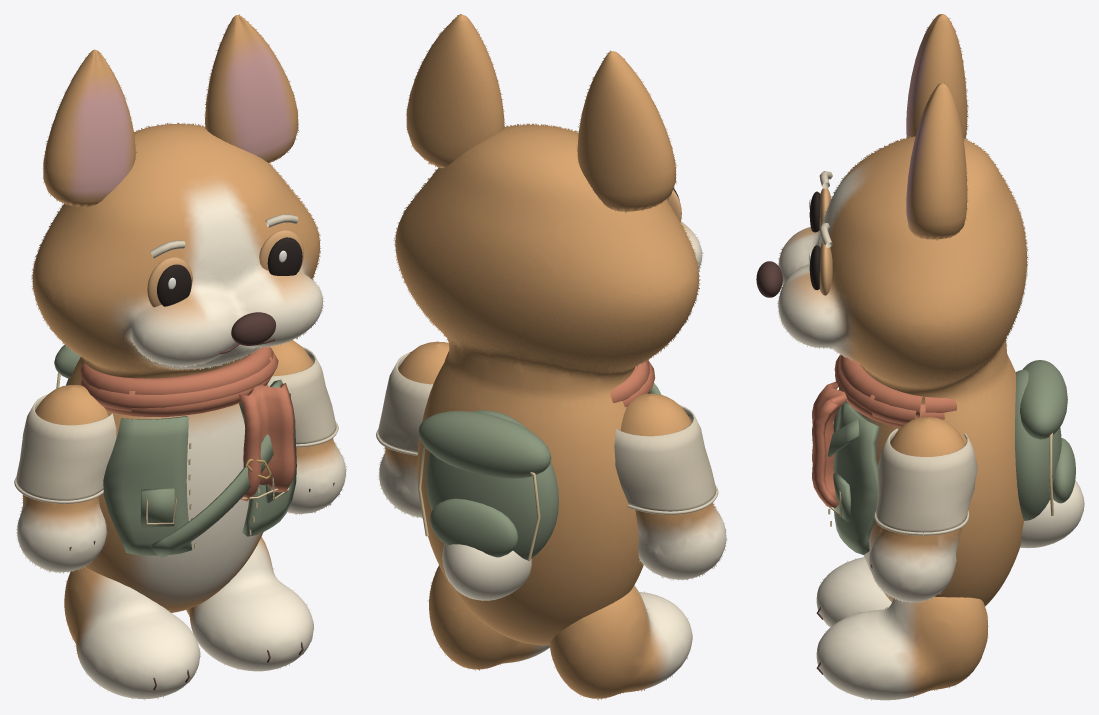
File: corgi_softtoy.glb
The picture shows the model from 3 angles, left to right: view 1: azimuth 30°, elevation 25°; view 2: azimuth 150°, elevation 25°; view 3: azimuth 270°, elevation 25°; orthographic projection. The views are drawn at different scales.
Parts seen in each view (by area): view 1: ContinuousSculptBody, SculptFaceAndClothing, ClothedPalm_L, Paw_L, PlushEar_L, Paw_R, PlushEar_R, ClothedPalm_R, ScarfTailWoven, PhysicalShortFur, EyeSurface_L, EyeSurface_R (+1 smaller); view 2: ContinuousSculptBody, SculptFaceAndClothing, ClothedPalm_L, PlushEar_L, Paw_L, PlushEar_R, ClothedPalm_R, PhysicalShortFur, Paw_R, PhysicalShortFur.006, PhysicalShortFur.003, PhysicalShortFur.001; view 3: ContinuousSculptBody, SculptFaceAndClothing, ClothedPalm_R, Paw_R, PlushEar_R, PhysicalShortFur, PlushEar_L, Paw_L, ScarfTailWoven, PhysicalShortFur.004.
Part boxes in pixels (x1=…): ContinuousSculptBody: x1=32, y1=124, x2=322, y2=612; SculptFaceAndClothing: x1=54, y1=214, x2=303, y2=557; ClothedPalm_L: x1=14, y1=385, x2=116, y2=572; Paw_L: x1=64, y1=567, x2=200, y2=699; PlushEar_L: x1=43, y1=49, x2=135, y2=206; Paw_R: x1=186, y1=537, x2=313, y2=671; PlushEar_R: x1=205, y1=15, x2=298, y2=162; ClothedPalm_R: x1=268, y1=340, x2=345, y2=513; ScarfTailWoven: x1=238, y1=383, x2=295, y2=501; PhysicalShortFur: x1=31, y1=122, x2=323, y2=371; EyeSurface_L: x1=157, y1=264, x2=191, y2=306; EyeSurface_R: x1=267, y1=237, x2=302, y2=275; ContinuousSculptBody: x1=395, y1=125, x2=701, y2=645; SculptFaceAndClothing: x1=418, y1=177, x2=681, y2=600; ClothedPalm_L: x1=614, y1=393, x2=726, y2=579; PlushEar_L: x1=577, y1=51, x2=675, y2=211; Paw_L: x1=549, y1=585, x2=692, y2=698; PlushEar_R: x1=406, y1=14, x2=504, y2=168; ClothedPalm_R: x1=376, y1=341, x2=449, y2=517; PhysicalShortFur: x1=393, y1=123, x2=703, y2=378; Paw_R: x1=429, y1=565, x2=549, y2=669; PhysicalShortFur.006: x1=406, y1=15, x2=505, y2=167; PhysicalShortFur.003: x1=577, y1=50, x2=676, y2=212; PhysicalShortFur.001: x1=637, y1=503, x2=727, y2=580; ContinuousSculptBody: x1=778, y1=136, x2=1026, y2=606; SculptFaceAndClothing: x1=756, y1=171, x2=1084, y2=554; ClothedPalm_R: x1=869, y1=417, x2=977, y2=602; Paw_R: x1=816, y1=596, x2=987, y2=700; PlushEar_R: x1=906, y1=83, x2=967, y2=239; PhysicalShortFur: x1=777, y1=136, x2=1028, y2=388; PlushEar_L: x1=906, y1=14, x2=967, y2=138; Paw_L: x1=816, y1=557, x2=891, y2=627; ScarfTailWoven: x1=812, y1=381, x2=847, y2=507; PhysicalShortFur.004: x1=868, y1=530, x2=961, y2=603.
Bounding box in the file's own units: 1.56 × 2.9 × 1.4.
